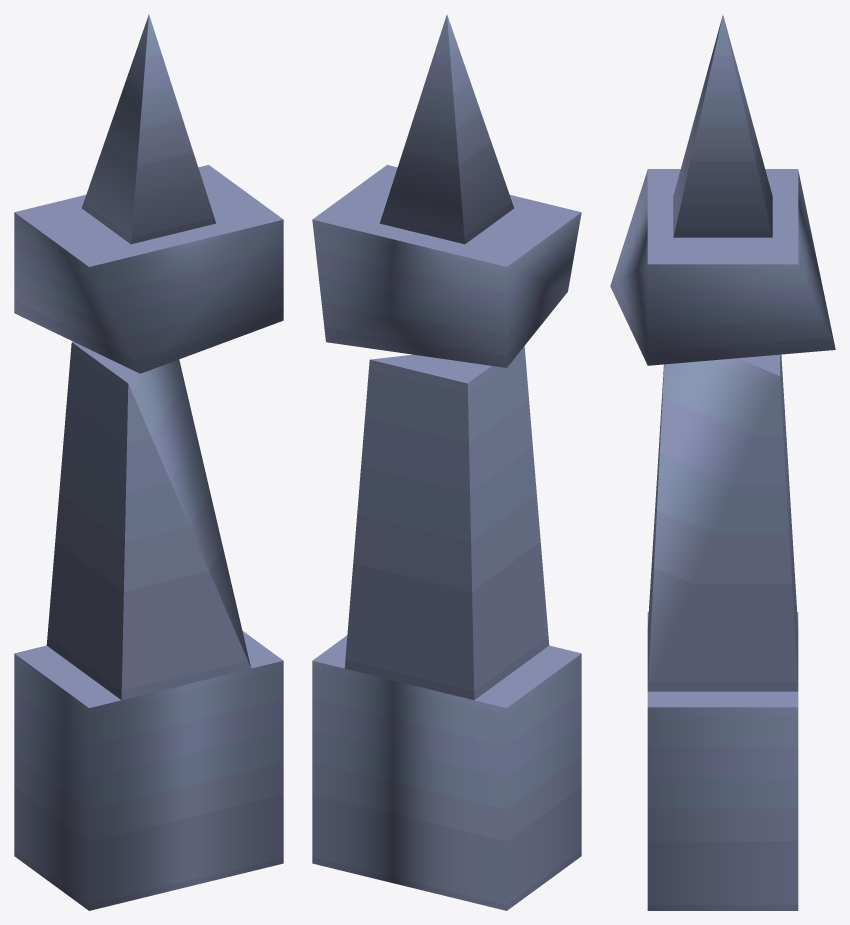
File: pillar-small.glb
The picture shows the model from 3 angles, left to right: view 1: azimuth 30°, elevation 25°; view 2: azimuth 150°, elevation 25°; view 3: azimuth 270°, elevation 25°; orthographic projection.
Visible parts, largest first — view 1: pillar-small; view 2: pillar-small; view 3: pillar-small.
Boxes of the visible parts, x1,y1,x2,y2 form: pillar-small: [14, 14, 283, 910]; pillar-small: [312, 14, 581, 910]; pillar-small: [610, 15, 835, 910].
Bounding box in the file's own units: 0.1821 × 0.7564 × 0.1821.
Materials: 1 (1 with a texture image).
